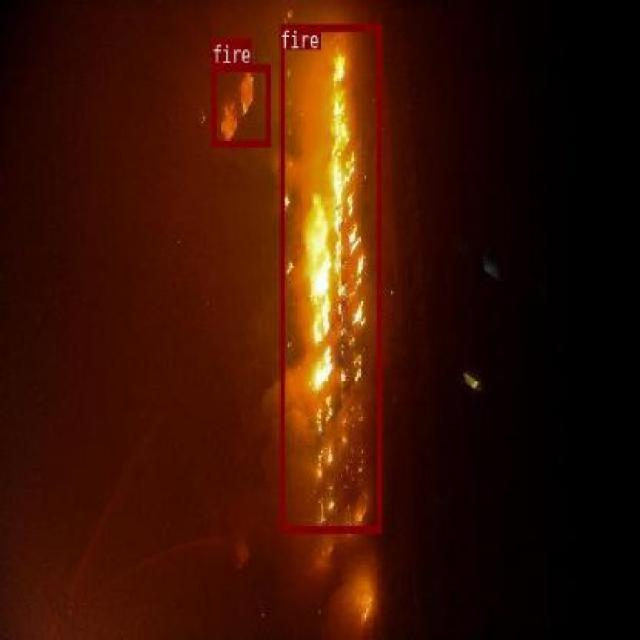Fire: (285, 27, 367, 557), (215, 78, 277, 143)
Smoke: (0, 0, 618, 640)
